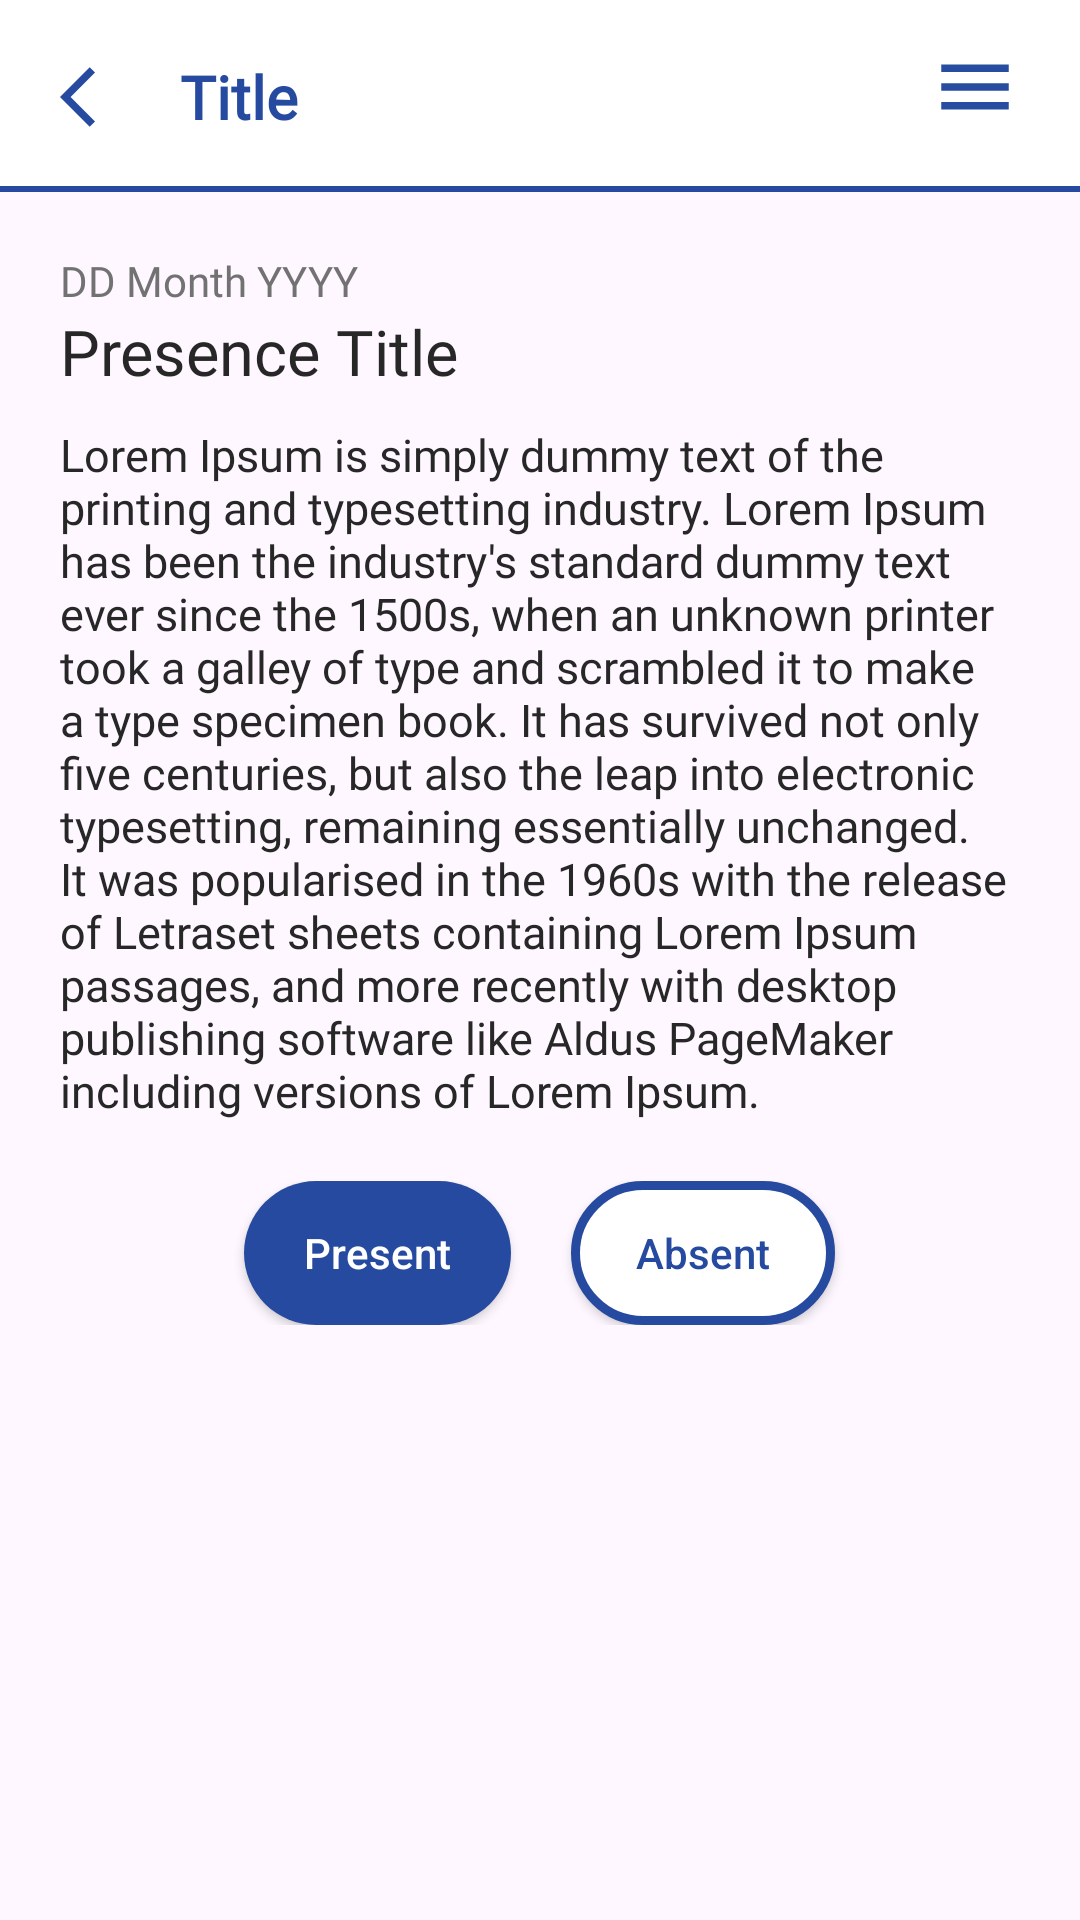

Icons on this 1080×1920 Android screen, each with its box as (x1, y1, x2, y2):
arrow back: (60, 67, 95, 127)
menu: (941, 64, 1009, 110)
